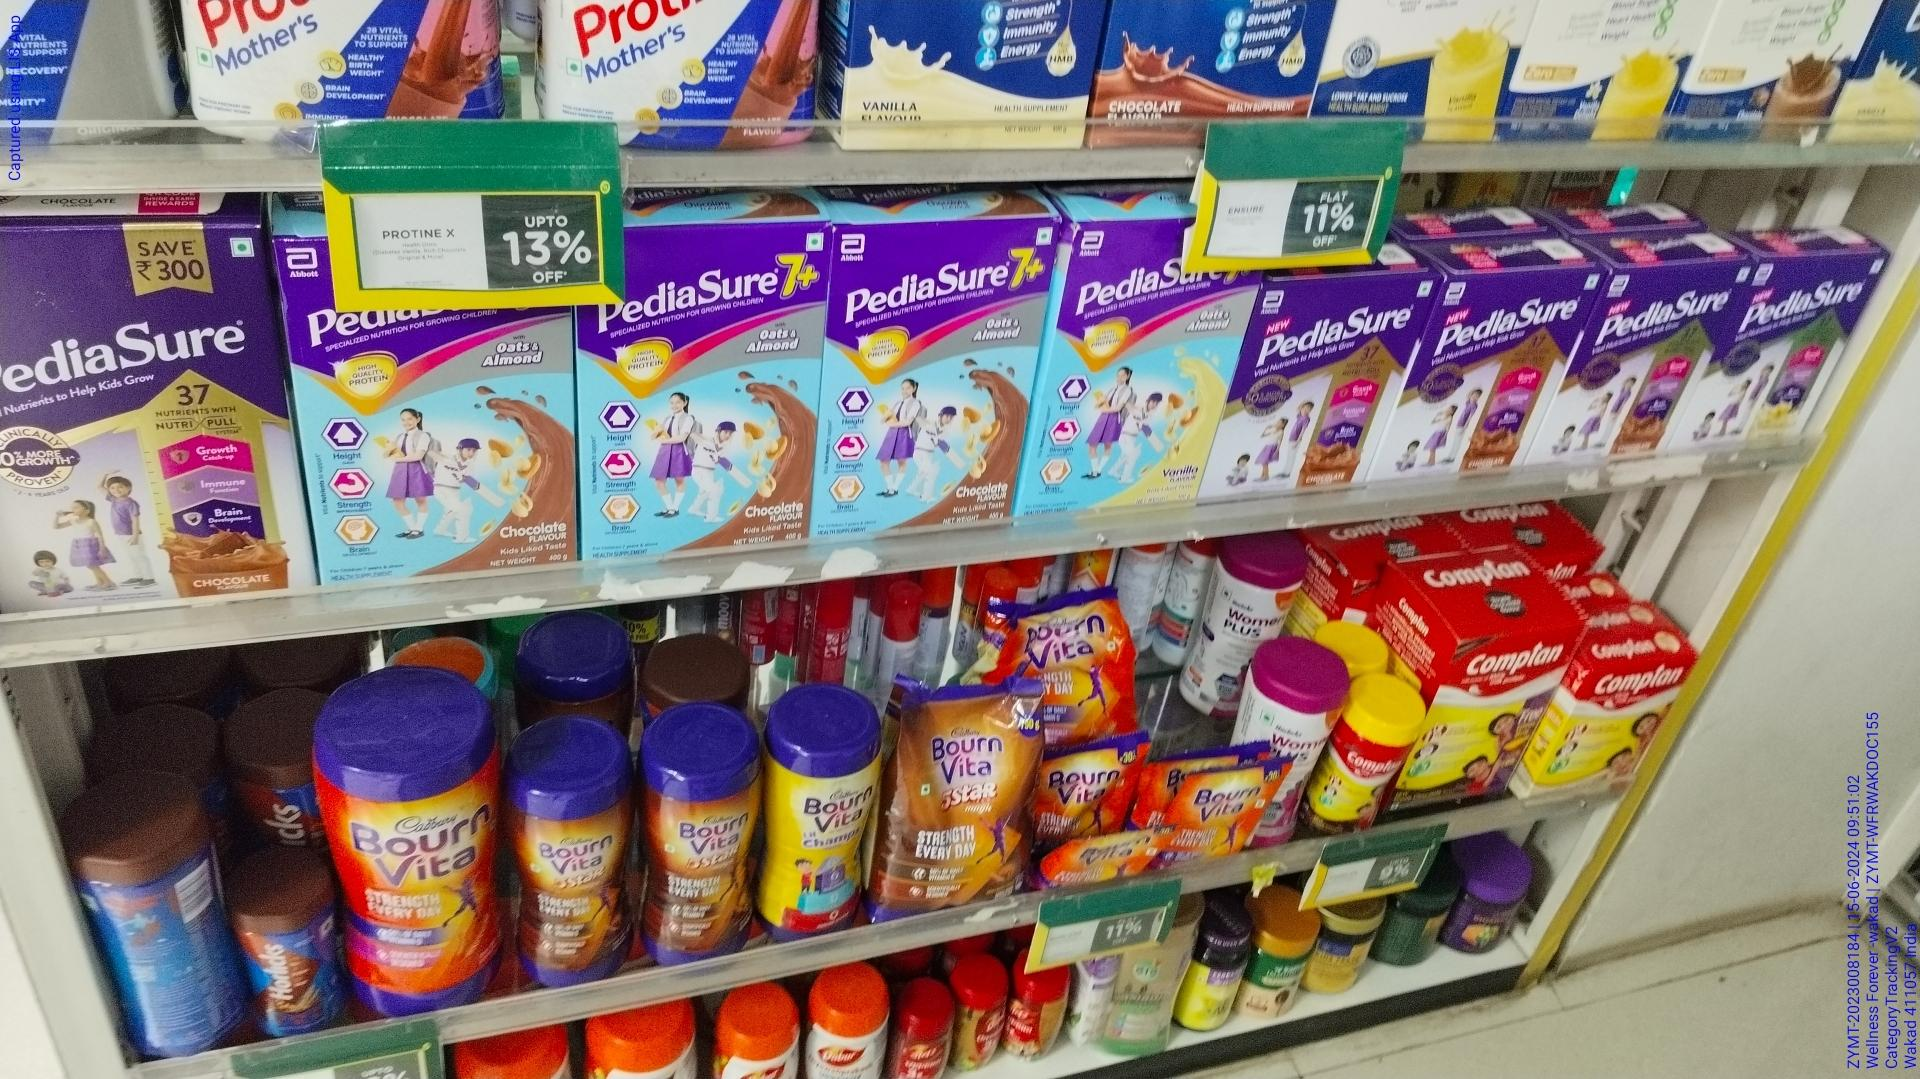BOURN_VITA_1_KG_JAR: (334, 695, 501, 1014)
BOURN_VITA_CHAMPS_500_G_JAR: (764, 722, 880, 938)
BOURN_VITA_FIVE_STAR_MAGIC_500_G_JAR: (509, 764, 629, 984), (641, 747, 753, 962)
BOURN_VITA_FIVE_STAR_MAGIC_750_G_POUCH: (889, 681, 1040, 909)
COMPLAN_CHOCOLATE_200_GMS_JAR: (1308, 716, 1407, 831)
COMPLAN_CHOCOLATE_500_GMS_PACK: (1419, 629, 1561, 809)
